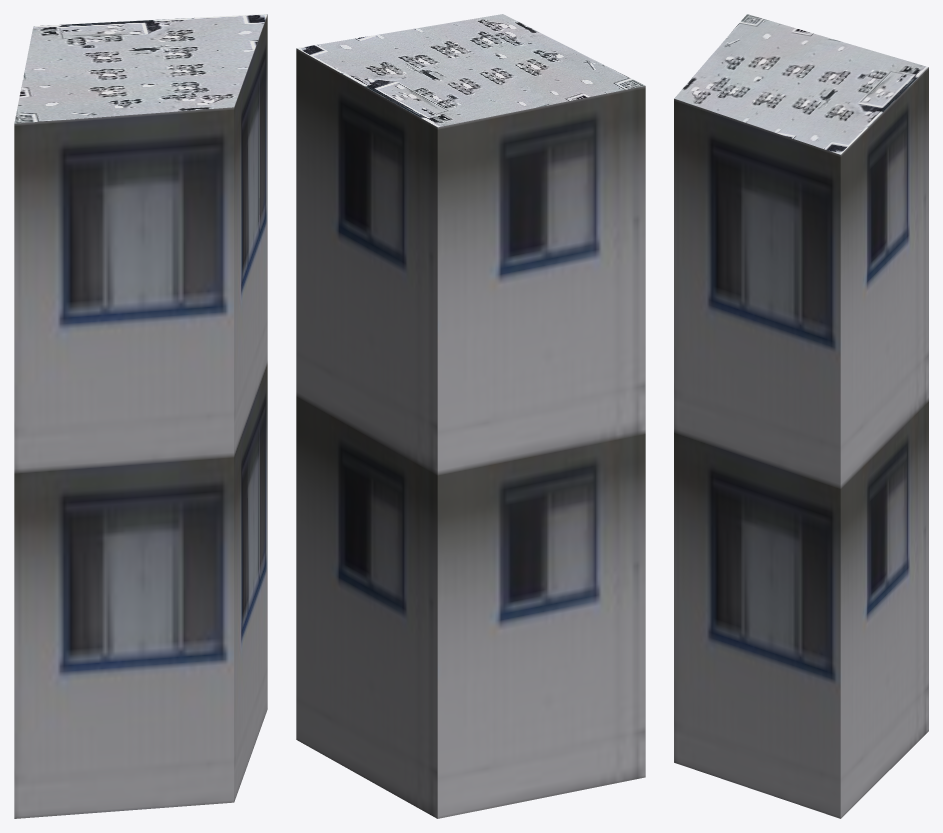
Rendered from ResTex__4445.fbx.
3 views of the same model, side by side, from view 1: azimuth 30°, elevation 25°; view 2: azimuth 150°, elevation 25°; view 3: azimuth 270°, elevation 25° (orthographic). The views are drawn at different scales.
Parts seen in each view (by area): view 1: CityEngineMaterial_9_m, CityEngineMaterial_8_m; view 2: CityEngineMaterial_9_m, CityEngineMaterial_8_m; view 3: CityEngineMaterial_9_m, CityEngineMaterial_8_m.
Boxes of the visible parts, x1,y1,x2,y2 form: CityEngineMaterial_9_m: (14,14,267,818); CityEngineMaterial_8_m: (14,14,267,123); CityEngineMaterial_9_m: (296,48,645,818); CityEngineMaterial_8_m: (296,14,645,127); CityEngineMaterial_9_m: (674,67,928,818); CityEngineMaterial_8_m: (674,14,928,154).
Size of the model in its own units: 2.73 by 6 by 2.09.
Materials: 2 (2 with a texture image).
